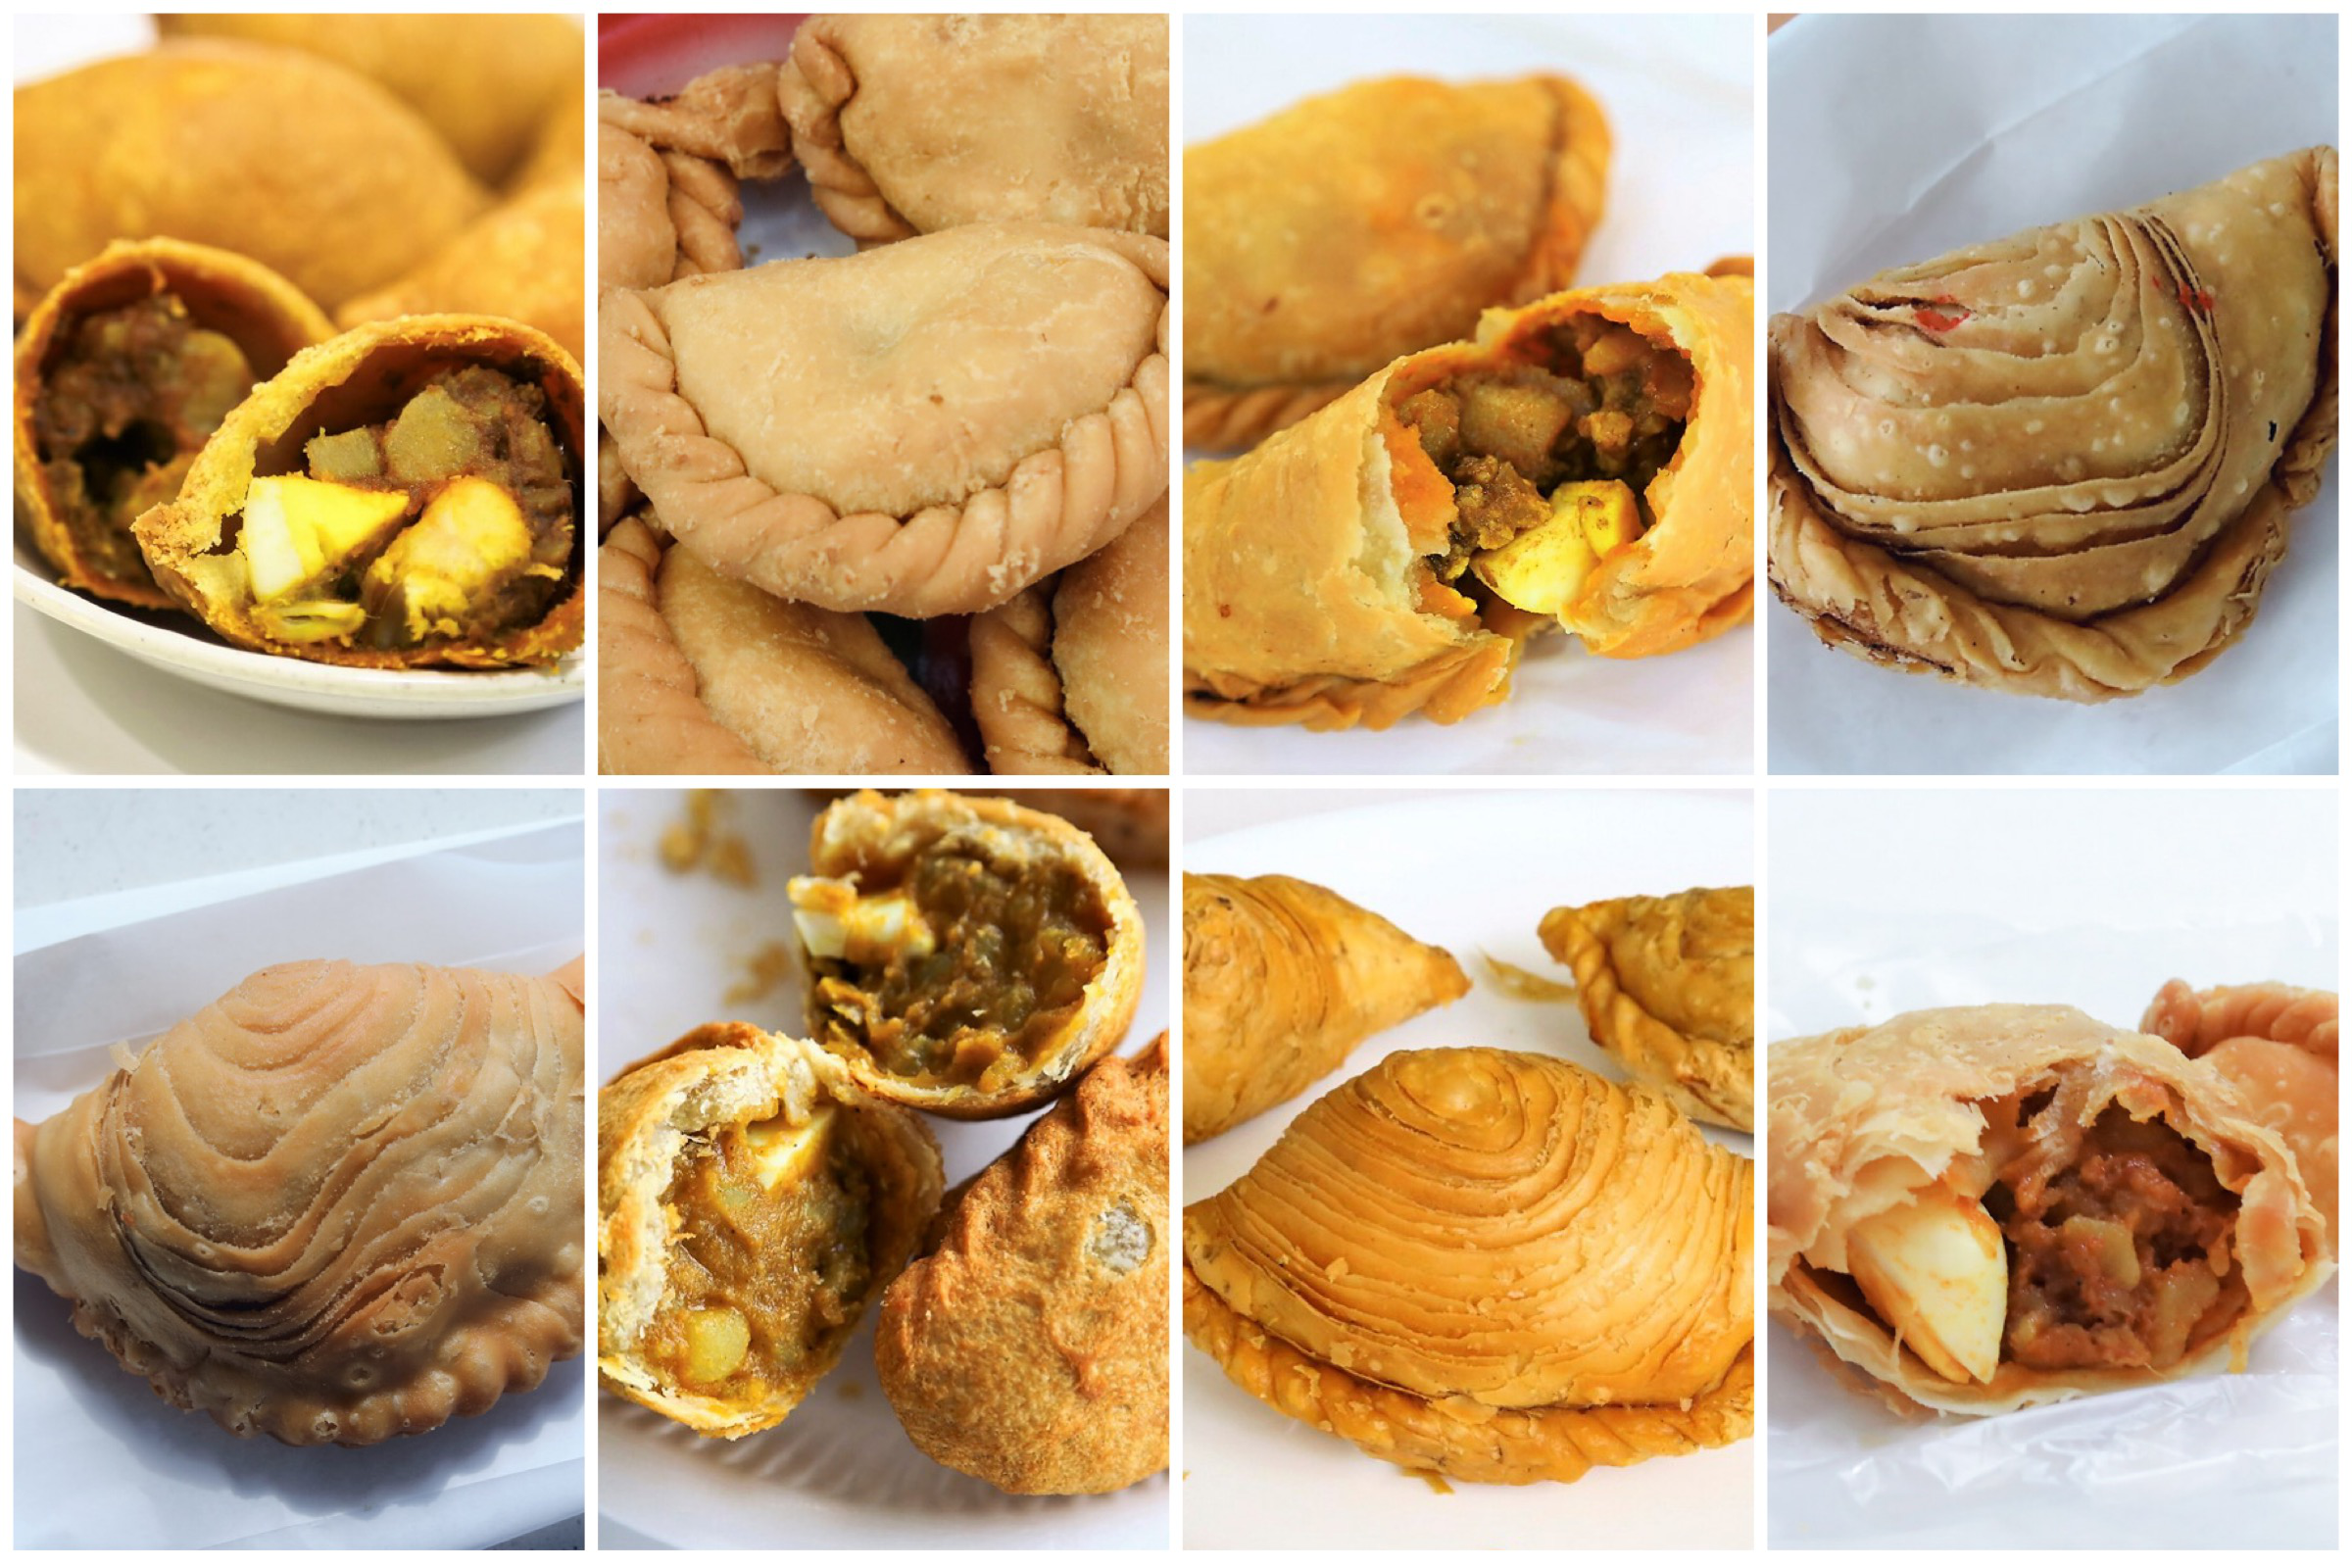Curry Puff: (1766, 152, 2322, 730), (1157, 1027, 1752, 1536), (3, 966, 583, 1447), (1174, 266, 1748, 709), (1787, 966, 2340, 1400), (598, 215, 1164, 607), (1144, 40, 1641, 436), (744, 19, 1167, 248), (1543, 847, 1759, 1099)
